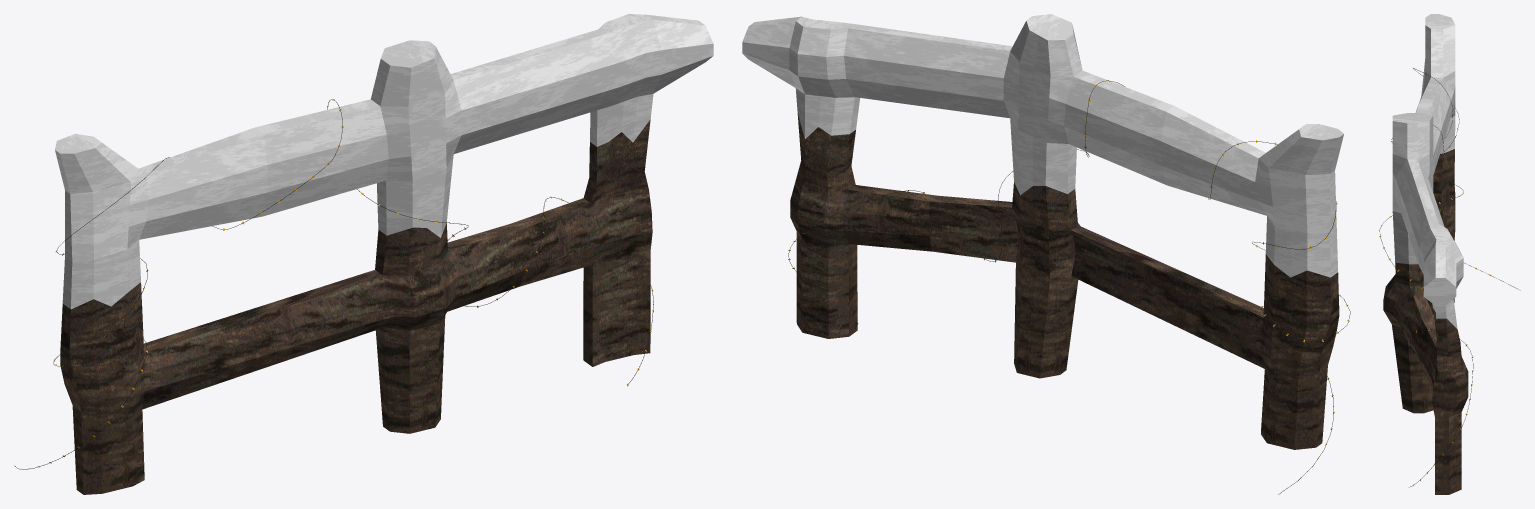
File: Cercadin.glb
3 views of the same model, side by side, from view 1: azimuth 30°, elevation 25°; view 2: azimuth 150°, elevation 25°; view 3: azimuth 270°, elevation 25° (orthographic). The views are drawn at different scales.
Parts seen in each view (by area): view 1: Plane; view 2: Plane; view 3: Plane.
Boxes of the visible parts, box(x1,y1,x2,y2) form: Plane: box(14, 14, 713, 494); Plane: box(742, 14, 1350, 494); Plane: box(1379, 14, 1520, 494).
Size of the model in its own units: 4.21 by 2.41 by 1.05.
4 materials, 2 textured.
